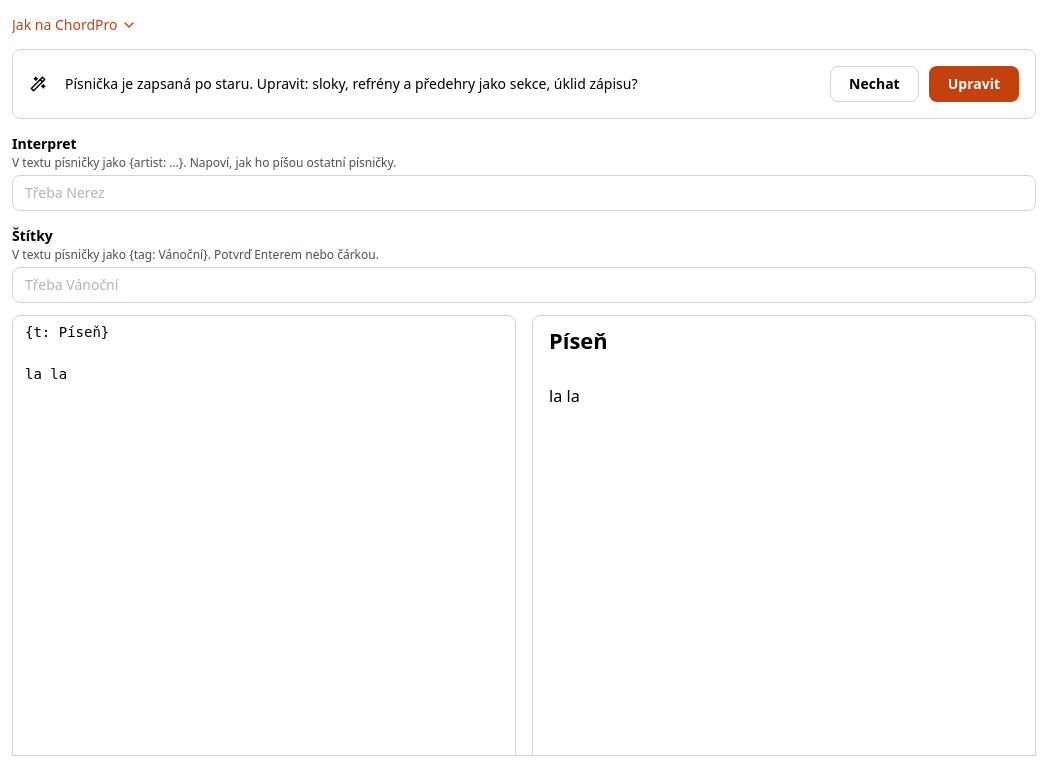
Test: ChordProEditor › keeps the old way when told to, and offers the tidy instead
Click the button "Nechat" at (874, 84), box [830, 66, 919, 102]
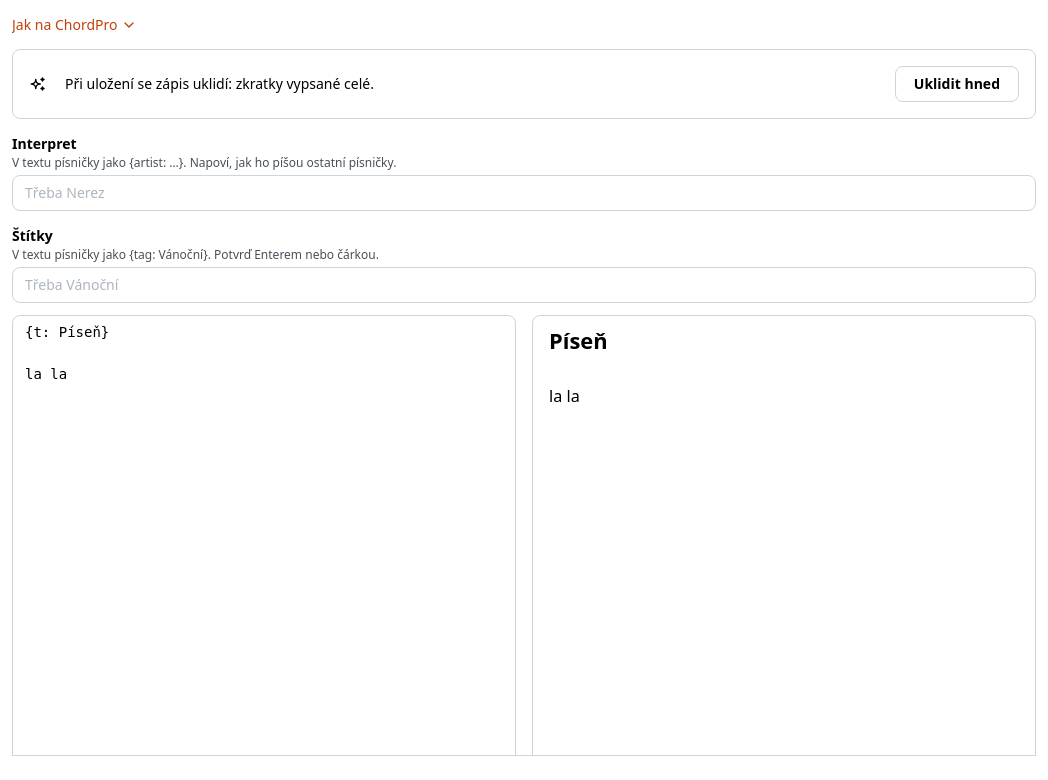
Expected: the text "Upravit" is gone
Expected: the button "Uklidit hned" is shown, [895, 66, 1019, 102]
